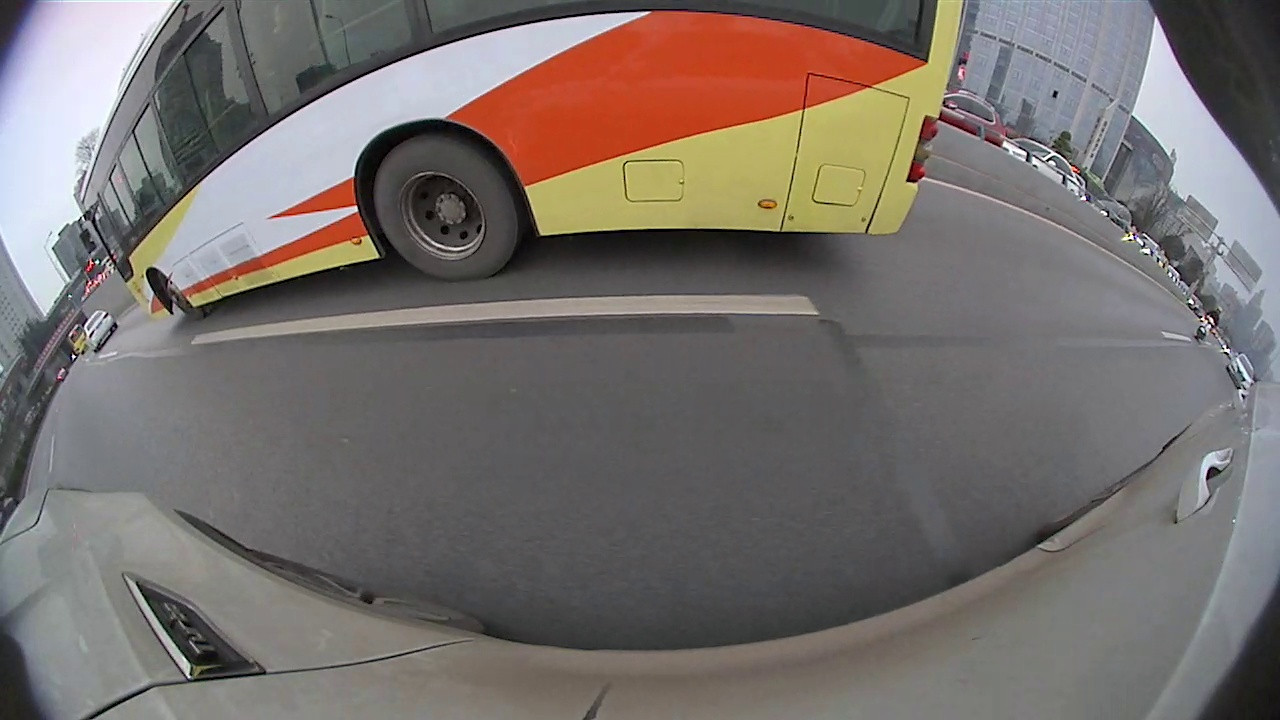bus: (681, 143, 730, 178)
car: (2, 148, 385, 514), (713, 131, 929, 246), (1006, 210, 1122, 279), (495, 153, 567, 198), (561, 159, 592, 185), (612, 159, 644, 183)
front: (312, 227, 374, 306), (1169, 307, 1195, 341), (714, 177, 729, 208)
person: (1016, 205, 1031, 249), (968, 193, 984, 230), (953, 185, 964, 224)
rear: (18, 416, 111, 518), (765, 181, 797, 235), (1072, 256, 1091, 278)
truck: (1159, 251, 1276, 399)
